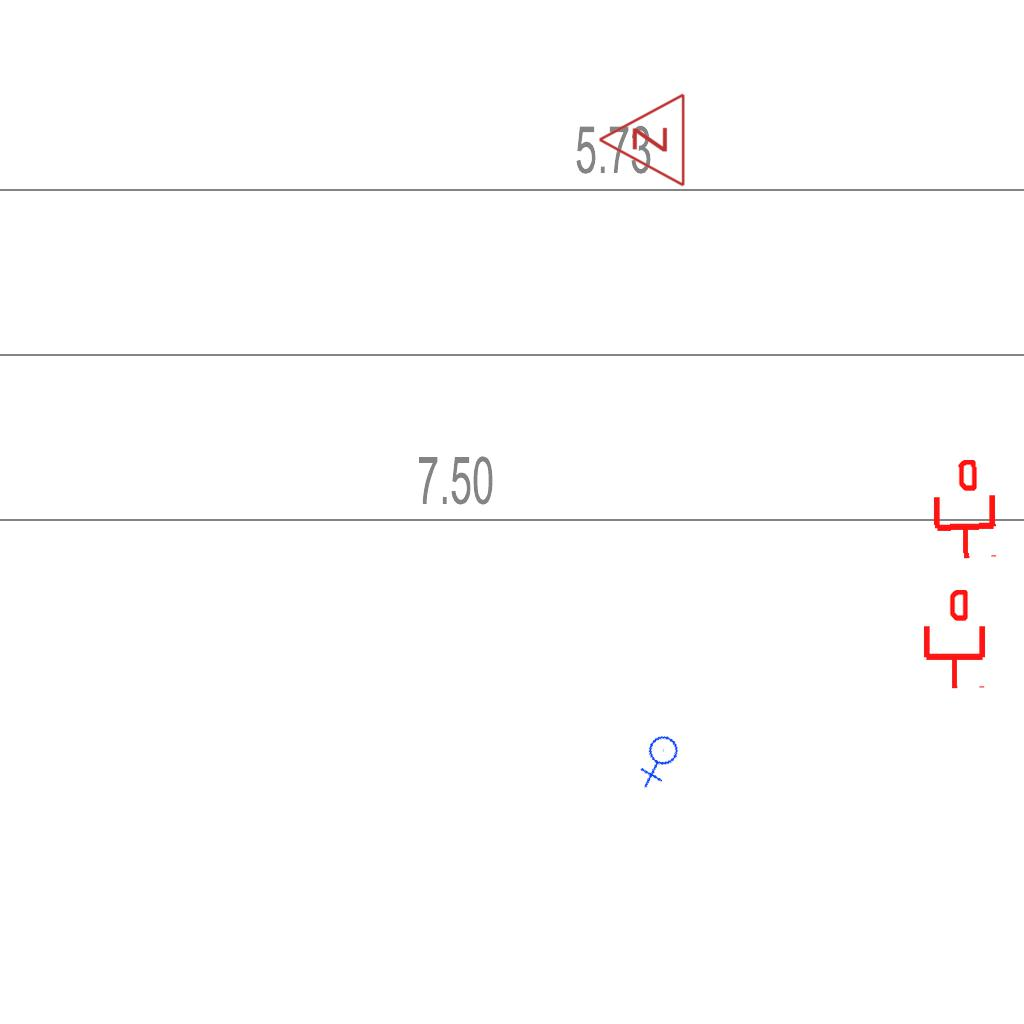Datenanschluss_einfach: (928, 458, 1001, 562), (920, 590, 989, 690)
Elektroanschluss_allgemein_230V_Geraeteanschlussdose_230V: (629, 730, 692, 791)
Zimmersignalleuchte: (592, 92, 692, 190)
